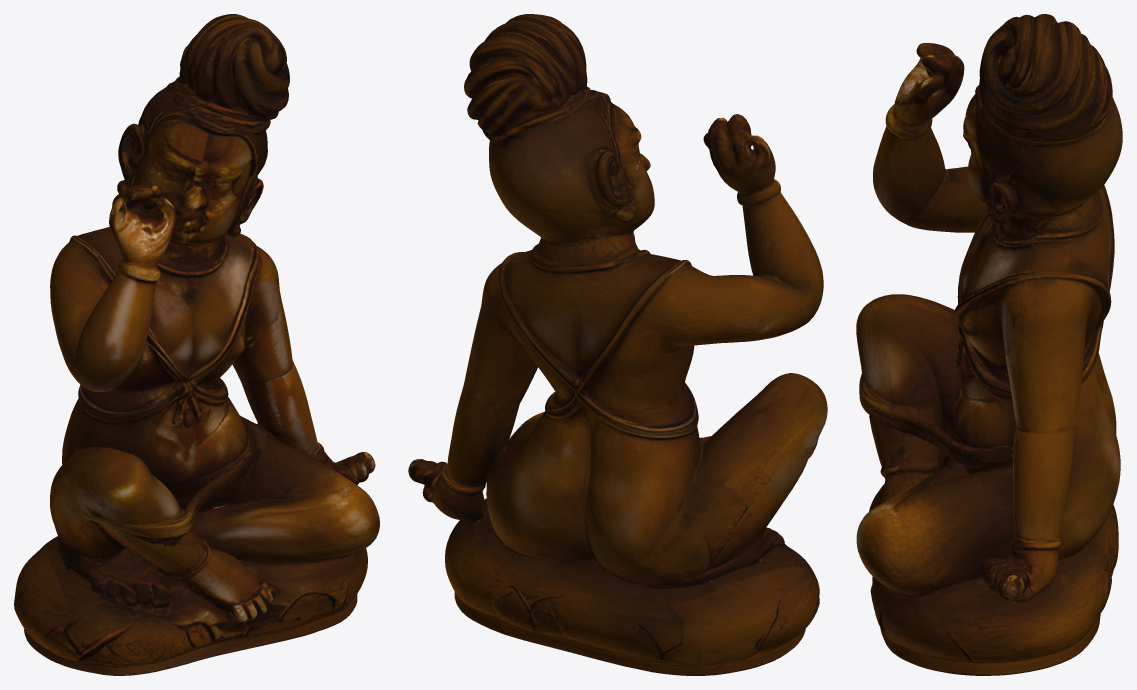
3 renders of one model, left to right at view 1: azimuth 30°, elevation 25°; view 2: azimuth 150°, elevation 25°; view 3: azimuth 270°, elevation 25°, orthographic. The views are drawn at different scales.
Parts seen in each view (by area): view 1: textured_mesh; view 2: textured_mesh; view 3: textured_mesh.
Boxes of the visible parts, x1,y1,x2,y2 form: textured_mesh: (14, 14, 379, 675); textured_mesh: (408, 14, 827, 675); textured_mesh: (856, 14, 1122, 675).
Size of the model in its own units: 1.33 by 1.99 by 0.7835.
Materials: 1 (1 with a texture image).
